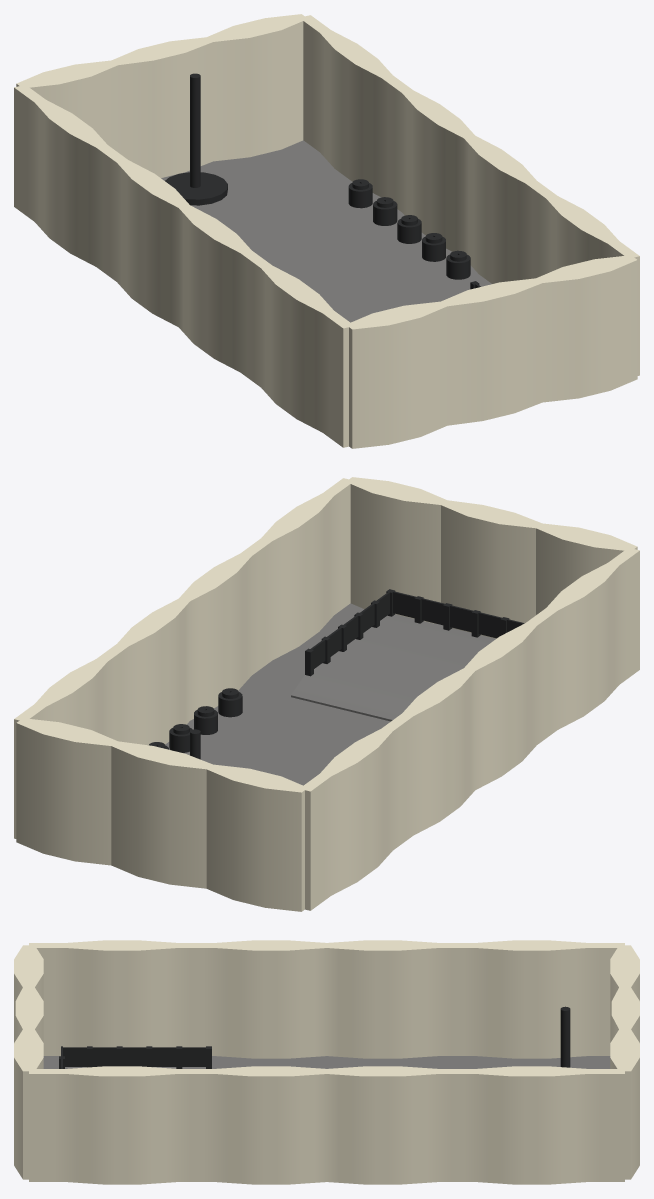
Rendered from концепция арены.fbx.
3 renders of one model, top to bottom at view 1: azimuth 30°, elevation 25°; view 2: azimuth 150°, elevation 25°; view 3: azimuth 270°, elevation 25°, orthographic. The views are drawn at different scales.
Visible parts, largest first — view 1: Front, Side, Ground, Stands, Menu; view 2: Front, Side, Ground, Arena ground, Arena zabor back, Arena zabor, Stands; view 3: Front, Side, Ground, Arena zabor, Menu.
Part boxes in pixels (x1=…): Front: x1=14, y1=15, x2=639, y2=447; Side: x1=16, y1=14, x2=637, y2=448; Ground: x1=161, y1=140, x2=491, y2=322; Stands: x1=348, y1=179, x2=470, y2=279; Menu: x1=165, y1=73, x2=227, y2=205; Front: x1=14, y1=478, x2=639, y2=910; Side: x1=16, y1=477, x2=637, y2=911; Ground: x1=165, y1=603, x2=443, y2=785; Arena ground: x1=291, y1=614, x2=495, y2=721; Arena zabor back: x1=386, y1=589, x2=524, y2=638; Arena zabor: x1=305, y1=591, x2=390, y2=676; Stands: x1=149, y1=688, x2=242, y2=752; Front: x1=29, y1=940, x2=624, y2=1184; Side: x1=14, y1=945, x2=639, y2=1179; Ground: x1=43, y1=1056, x2=610, y2=1068; Arena zabor: x1=63, y1=1046, x2=211, y2=1068; Menu: x1=560, y1=1006, x2=570, y2=1067.
Size of the model in its own units: 5400 by 2000 by 10500.
